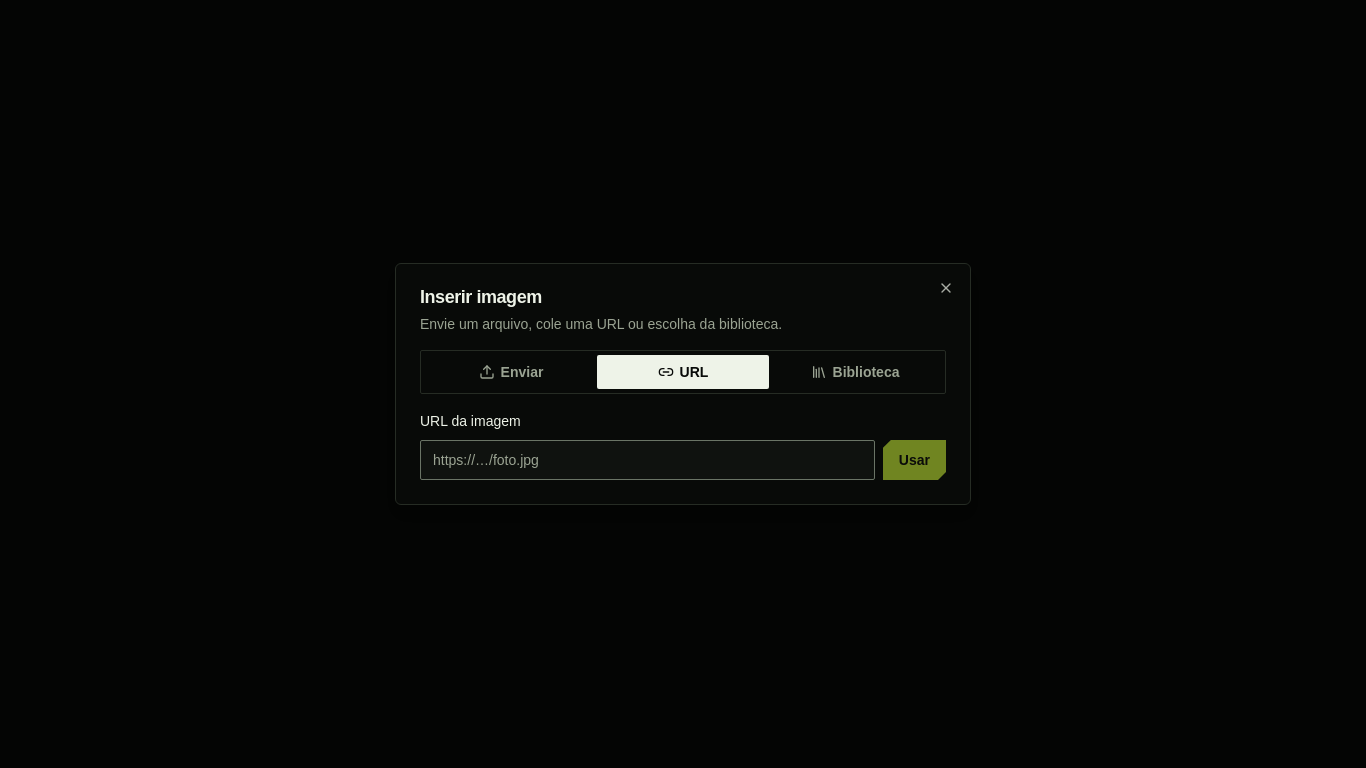
Scenario: <MediaDialog /> — vídeo e capa › sem armazenamento (Vercel sem Blob), abre na aba URL e explica o upload
The width and height of the screenshot is (1366, 768).
Press the mouse on the tab "Enviar" at (511, 372), box [425,355,597,389]
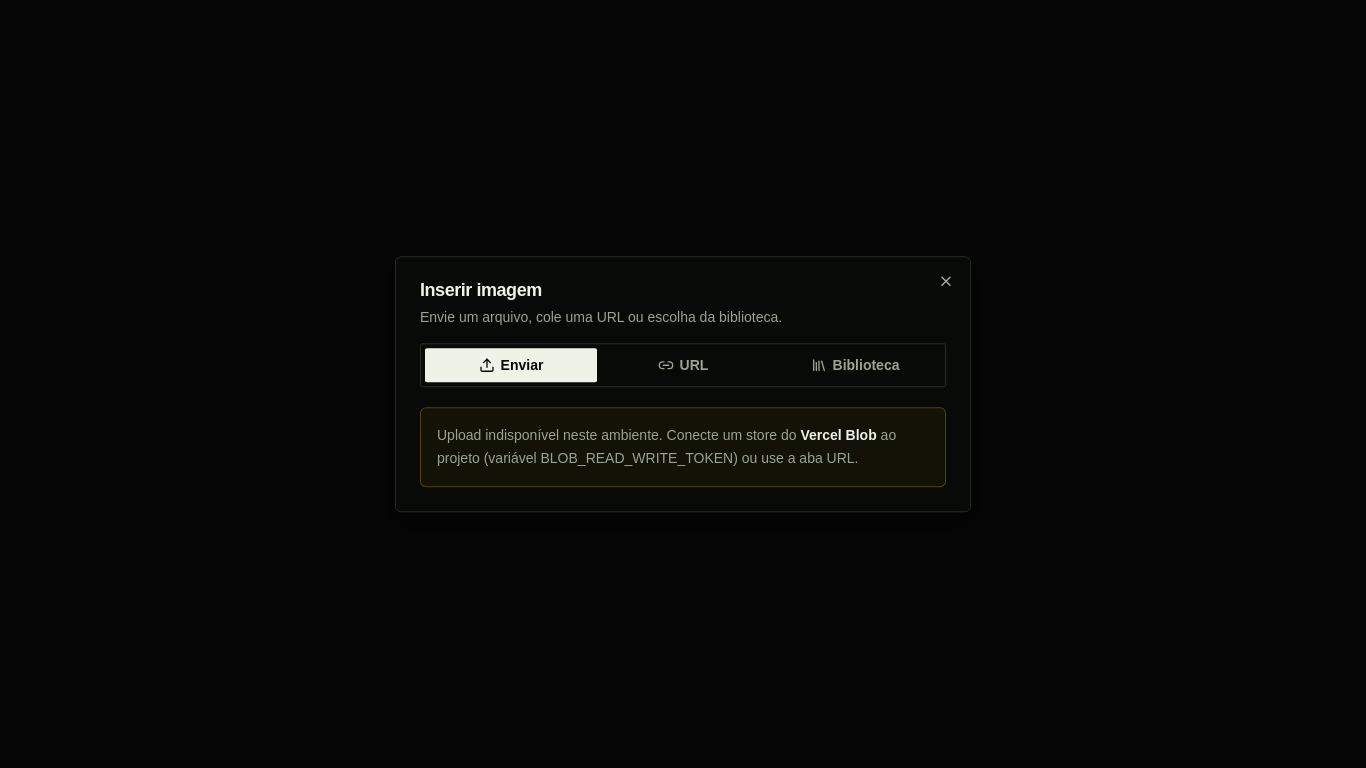
Expected: the text "BLOB_READ_WRITE_TOKEN" is shown, [540,450,733,466]
